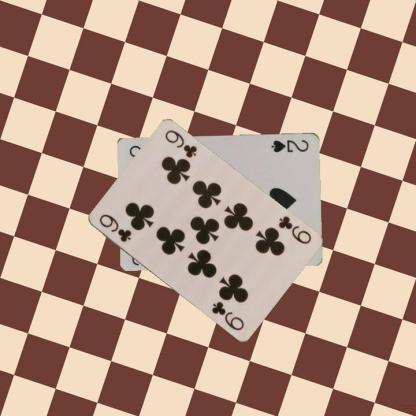2s: (269, 137, 310, 154)
9c: (275, 213, 313, 246), (96, 211, 133, 244)
